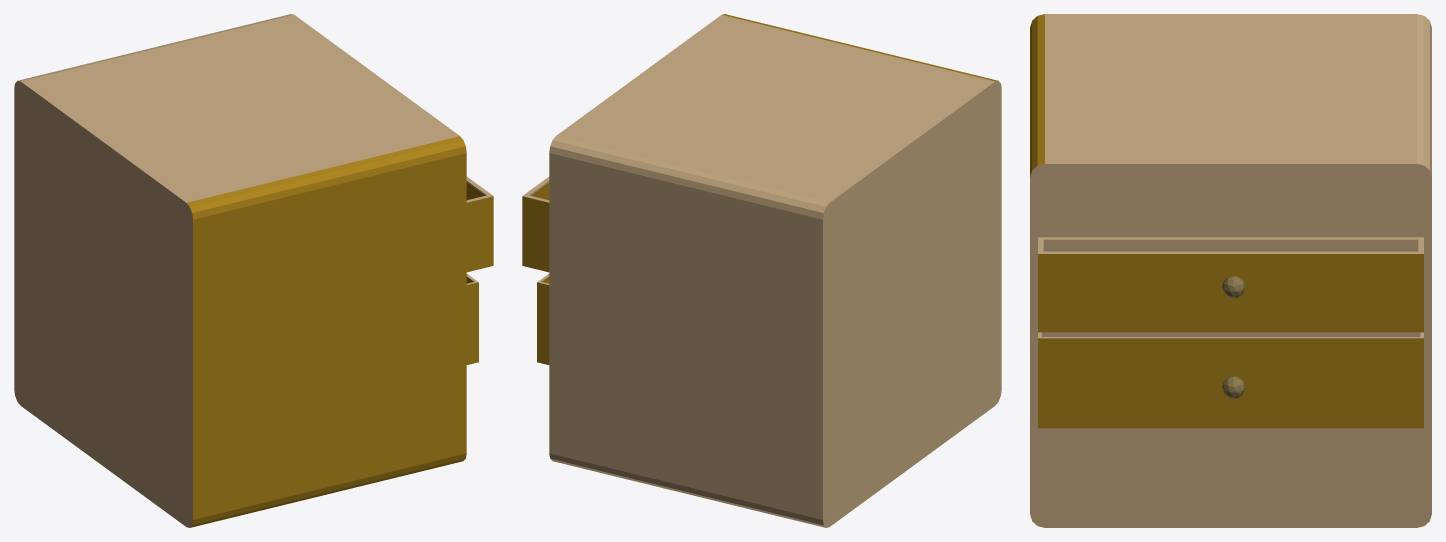
Rendered from Container.fbx.
3 renders of one model, left to right at view 1: azimuth 30°, elevation 25°; view 2: azimuth 150°, elevation 25°; view 3: azimuth 270°, elevation 25°, orthographic. The views are drawn at different scales.
Parts seen in each view (by area): view 1: Blocks; view 2: Blocks; view 3: Blocks.
Part boxes in pixels (<box>): Blocks: <box>14,14,493,527</box>; Blocks: <box>522,14,1001,527</box>; Blocks: <box>1030,14,1431,527</box>.
Bounding box in the file's own units: 203 × 200 × 200.
